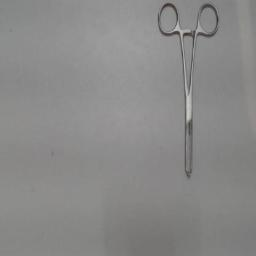Allis Tissue Forceps: (153, 0, 223, 182)
